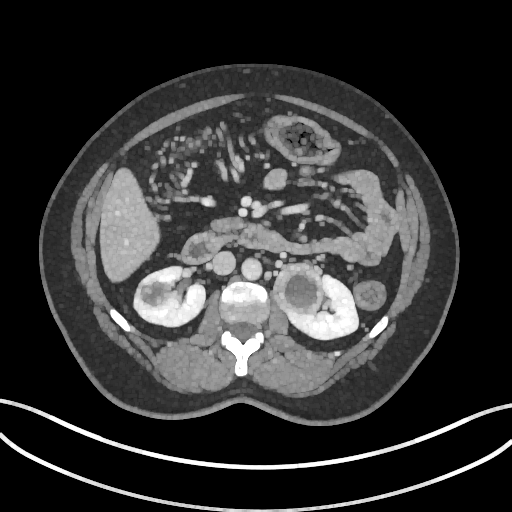Lesion: (271, 265, 327, 315)
